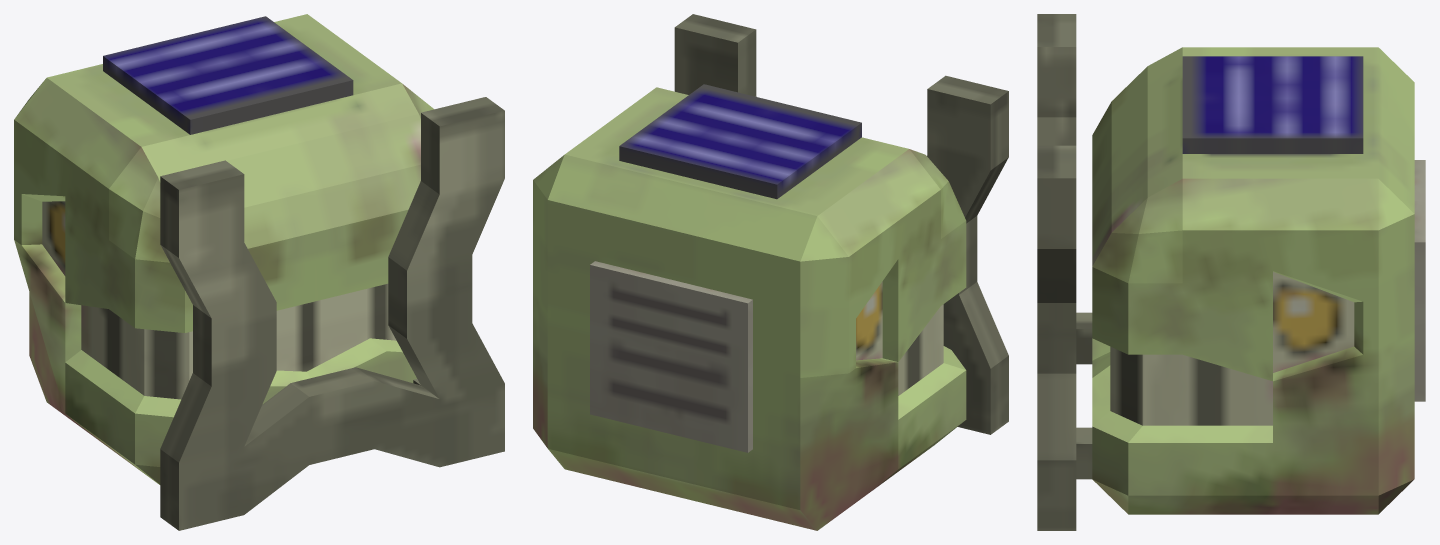
File: piston.fbx
The picture shows the model from 3 angles, left to right: view 1: azimuth 30°, elevation 25°; view 2: azimuth 150°, elevation 25°; view 3: azimuth 270°, elevation 25°; orthographic projection. The views are drawn at different scales.
Visible parts, largest first — view 1: Cube, Cube.001; view 2: Cube, Cube.001; view 3: Cube, Cube.001.
Part boxes in pixels (bbox=[...]): Cube: bbox=[14, 14, 433, 484]; Cube.001: bbox=[160, 97, 504, 530]; Cube: bbox=[533, 84, 966, 530]; Cube.001: bbox=[674, 14, 1008, 434]; Cube: bbox=[1092, 47, 1425, 514]; Cube.001: bbox=[1037, 14, 1092, 530].
Bounding box in the file's own units: 200 × 200 × 200.
2 materials, 2 textured.
